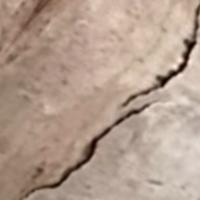crack: (25, 10, 199, 193)
